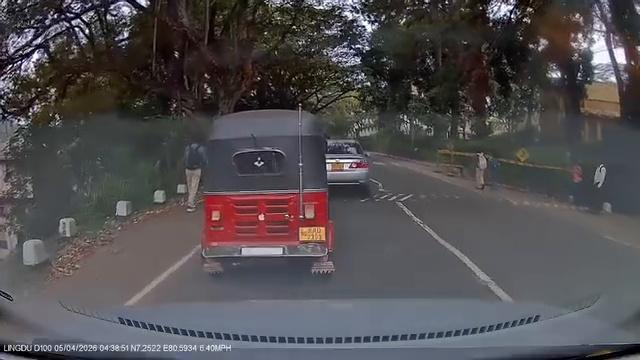number plate: (291, 223, 332, 255)
